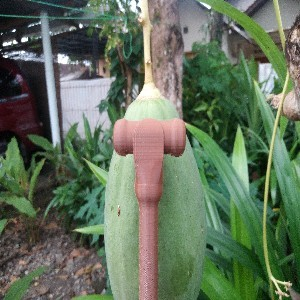palu: (112, 116, 187, 300)
